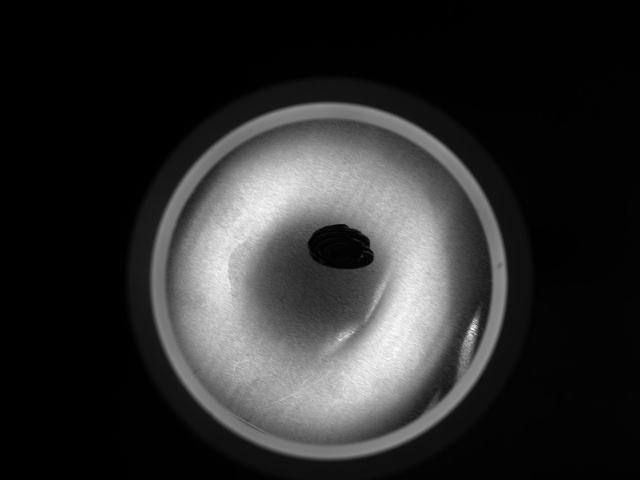zang_wu: (304, 221, 377, 272)
